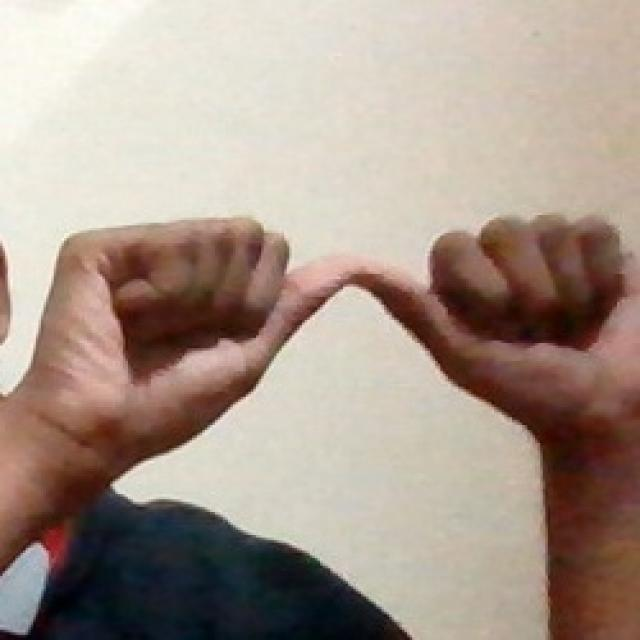Alphabet-A: (36, 206, 631, 451)
